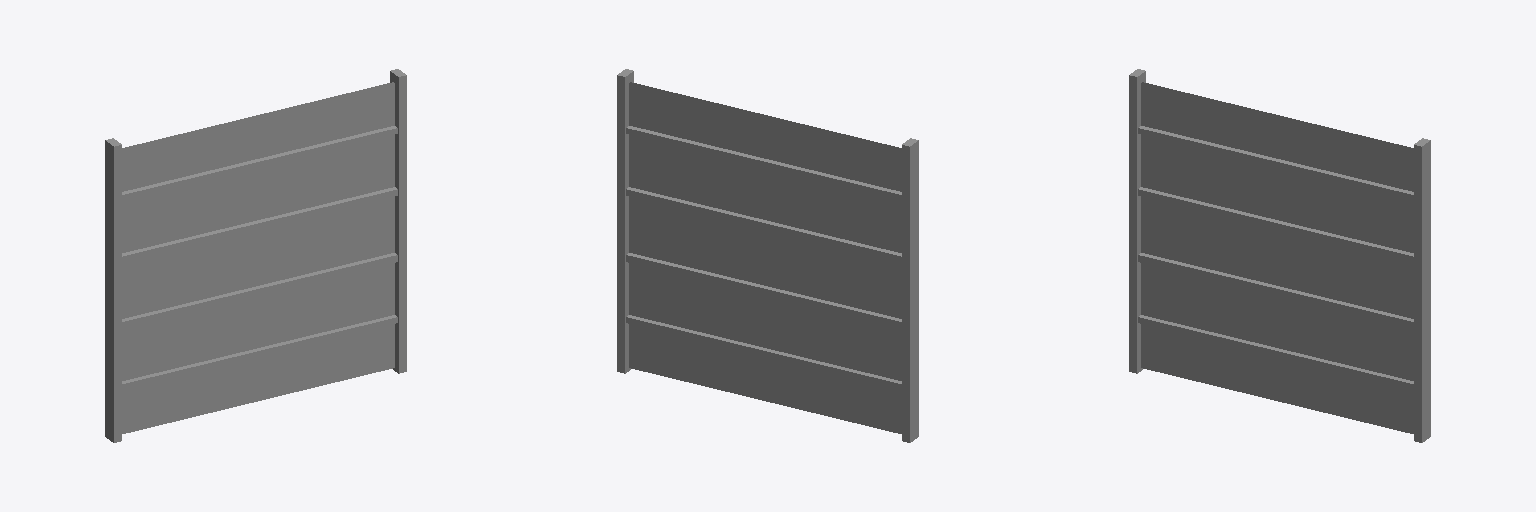
The model's file is SciFiHangar_009_UVUNRWAPPINGVERSION_doorBase.obj.
The picture shows the model from 3 angles: view 1: azimuth 30°, elevation 25°; view 2: azimuth 150°, elevation 25°; view 3: azimuth 330°, elevation 25°; orthographic projection.
Parts seen in each view (by area): view 1: Door_Plane.006; view 2: Door_Plane.006; view 3: Door_Plane.006.
Part boxes in pixels (bbox=[...]): Door_Plane.006: bbox=[105, 69, 406, 442]; Door_Plane.006: bbox=[617, 69, 918, 442]; Door_Plane.006: bbox=[1129, 69, 1430, 442].
Bounding box in the file's own units: 5.74 × 5.56 × 0.2998.